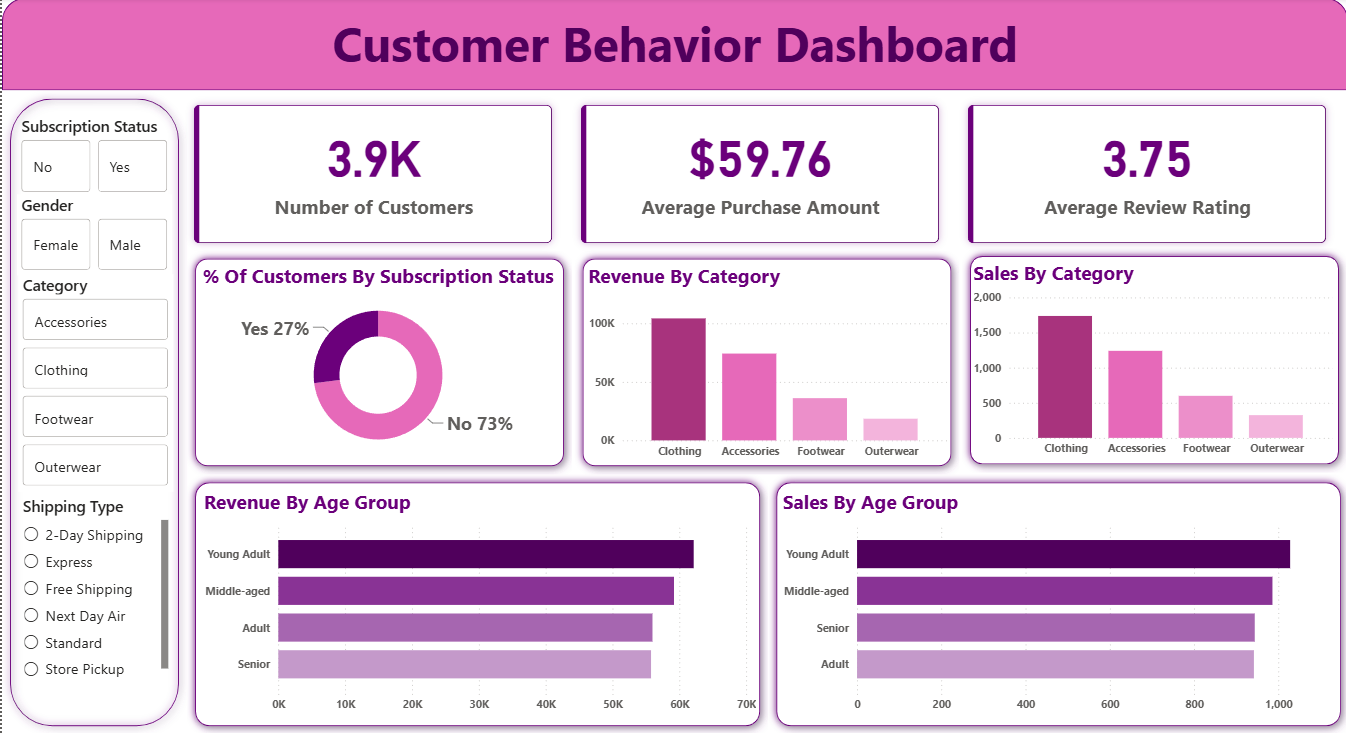

This screenshot's page, from the dashboard's own definition file:
{"tool":"powerbi","page":{"name":"Page 1","canvas":[1500,820],"ordinal":0},"visuals":[{"type":"cardVisual","fields":{"Data":["public customer.Number of Customers","public customer.Average Purchase Amount","public customer.Average Review Rating"]},"box":[190.8,96.1,1309.1,200.5],"z":0},{"type":"shape","box":[0,0,1500,102.9],"z":1000},{"type":"textbox","box":[0,8.7,1500,85.5],"z":2000},{"type":"shape","box":[205.9,281,428.9,249.3],"z":3000},{"type":"donutChart","title":"% Of Customers By Subscription Status","fields":{"Category":["public customer.subscription_status"],"Y":["CountNonNull(public customer.customer_id)"]},"box":[218.6,293.9,401.1,224.2],"z":4000},{"type":"shape","box":[638.4,281,428.9,249.3],"z":5000},{"type":"shape","box":[1069.6,278.2,429,250],"z":6000},{"type":"clusteredColumnChart","title":"Revenue By Category","fields":{"Y":["Sum(public customer.purchase_amount)"],"Category":["public customer.category"]},"box":[653.2,293.9,401.1,224.2],"z":7000},{"type":"clusteredColumnChart","title":"Sales By Category","fields":{"Y":["CountNonNull(public customer.customer_id)"],"Category":["public customer.category"]},"box":[1082.1,291.1,401.1,224.2],"z":8000},{"type":"shape","box":[0,103.1,206.1,717.2],"z":9000},{"type":"advancedSlicerVisual","fields":{"Values":["public customer.subscription_status"]},"box":[16.7,130.9,172.7,90.5],"z":10000},{"type":"advancedSlicerVisual","fields":{"Values":["public customer.gender"]},"box":[16.7,218.6,172.7,90],"z":11000},{"type":"advancedSlicerVisual","fields":{"Values":["public customer.category"]},"box":[18.1,307.8,172.7,242.3],"z":12000},{"type":"listSlicer","fields":{"Values":["public customer.shipping_type"]},"box":[18.1,554.3,172.7,210.3],"z":13000},{"type":"shape","box":[206.1,530.6,647.6,289.7],"z":14000},{"type":"clusteredBarChart","title":"Revenue By Age Group","fields":{"Y":["Sum(public customer.purchase_amount)"],"Category":["public customer.age_group"]},"box":[220,545.9,625.3,259],"z":15000},{"type":"shape","box":[853.7,530.6,647,289.7],"z":16000},{"type":"clusteredBarChart","title":"Sales By Age Group","fields":{"Y":["CountNonNull(public customer.customer_id)"],"Category":["public customer.age_group"]},"box":[864.8,545.9,625.3,259],"z":17000}]}

Visuals, with their boxes in screenshot pixels (x1, y1, x2, y2), scaled from the page's 1500x820 canvas onto the 1346x733 screenshot:
cardVisual - public customer.Number of Customers x public customer.Average Purchase Amount: <bbox>171, 86, 1345, 265</bbox>
shape: <bbox>0, 0, 1345, 92</bbox>
textbox: <bbox>0, 8, 1345, 84</bbox>
shape: <bbox>185, 251, 570, 474</bbox>
"% Of Customers By Subscription Status" donutChart: <bbox>196, 263, 556, 463</bbox>
shape: <bbox>573, 251, 958, 474</bbox>
shape: <bbox>960, 249, 1345, 472</bbox>
"Revenue By Category" clusteredColumnChart: <bbox>586, 263, 946, 463</bbox>
"Sales By Category" clusteredColumnChart: <bbox>971, 260, 1331, 461</bbox>
shape: <bbox>0, 92, 185, 732</bbox>
advancedSlicerVisual - public customer.subscription_status: <bbox>15, 117, 170, 198</bbox>
advancedSlicerVisual - public customer.gender: <bbox>15, 195, 170, 276</bbox>
advancedSlicerVisual - public customer.category: <bbox>16, 275, 171, 492</bbox>
listSlicer - public customer.shipping_type: <bbox>16, 495, 171, 683</bbox>
shape: <bbox>185, 474, 766, 732</bbox>
"Revenue By Age Group" clusteredBarChart: <bbox>197, 488, 759, 720</bbox>
shape: <bbox>766, 474, 1345, 732</bbox>
"Sales By Age Group" clusteredBarChart: <bbox>776, 488, 1337, 720</bbox>
